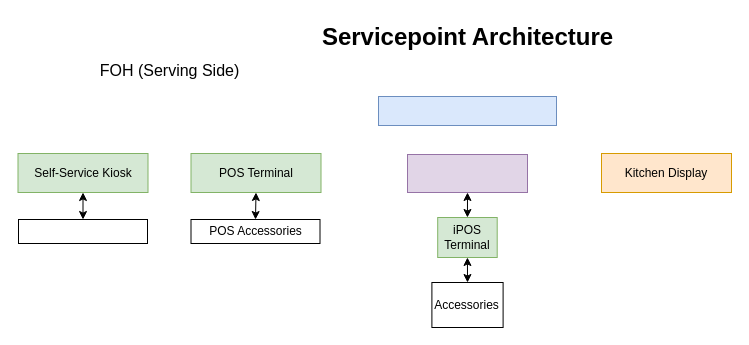
Some shapes in this 749 by 345 pixel diagram are drawn without their labels. Each missing label, with the box of its shape:
iPOS Server: (406, 154, 528, 192)
Kiosk Accessories: (18, 218, 148, 244)
Main POS Server: (378, 96, 556, 126)
